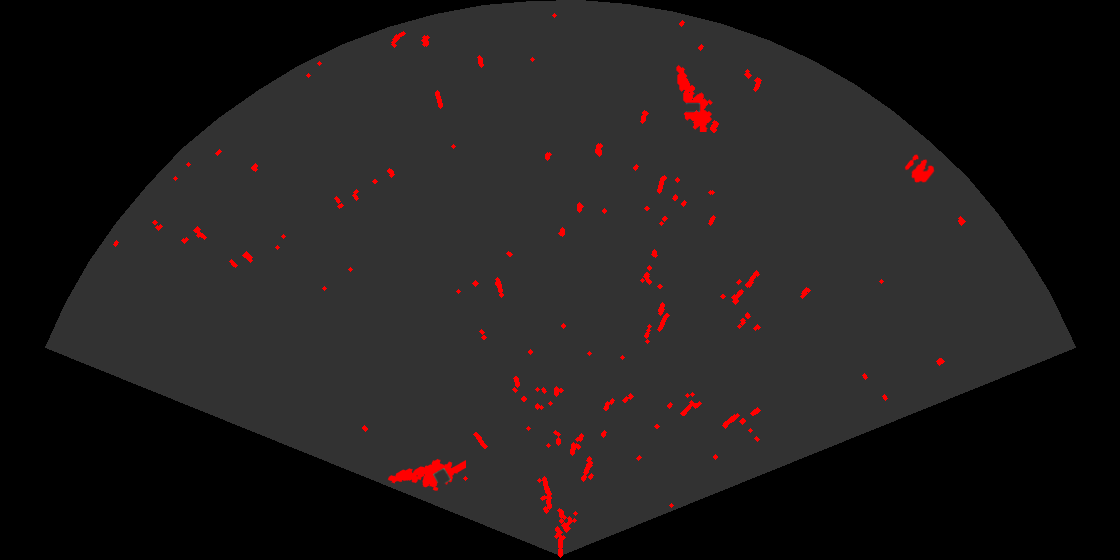ball: (903, 153, 936, 184)
frogman: (386, 457, 466, 493), (675, 64, 714, 132)
